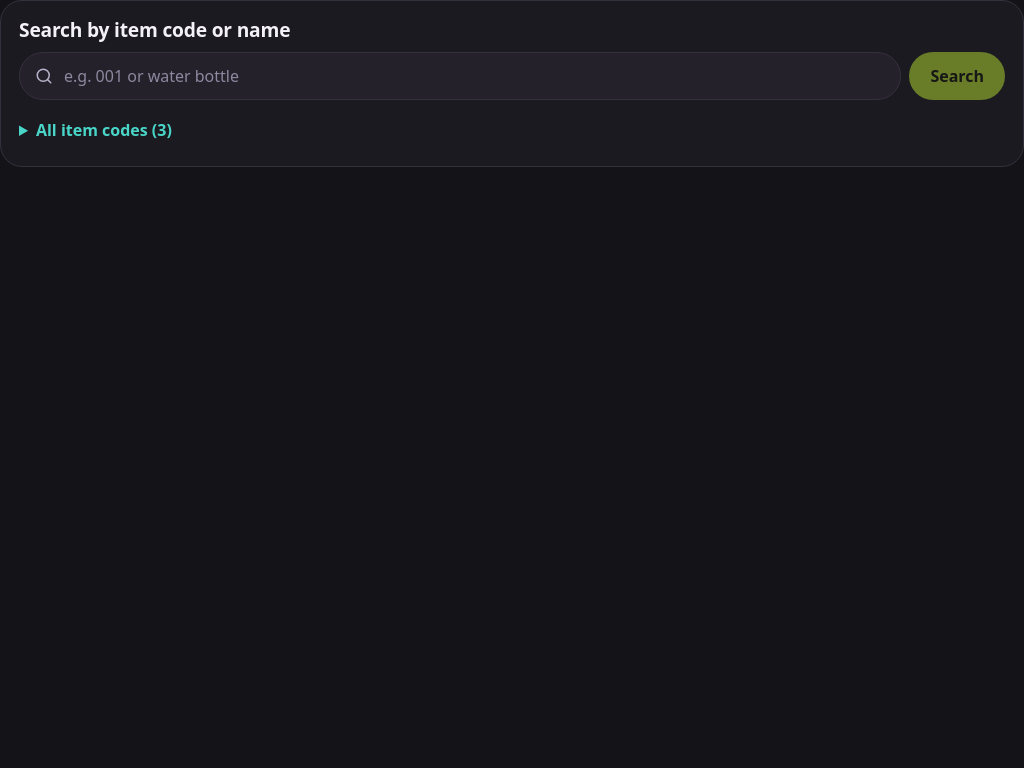
free text with no coded match falls back to a labelled AI guide
Expected: the heading "All item codes (3)" is shown, [36,119,172,141]
In the search field named "Item code or name": (460, 76) [19,52,901,100], type "toy car"
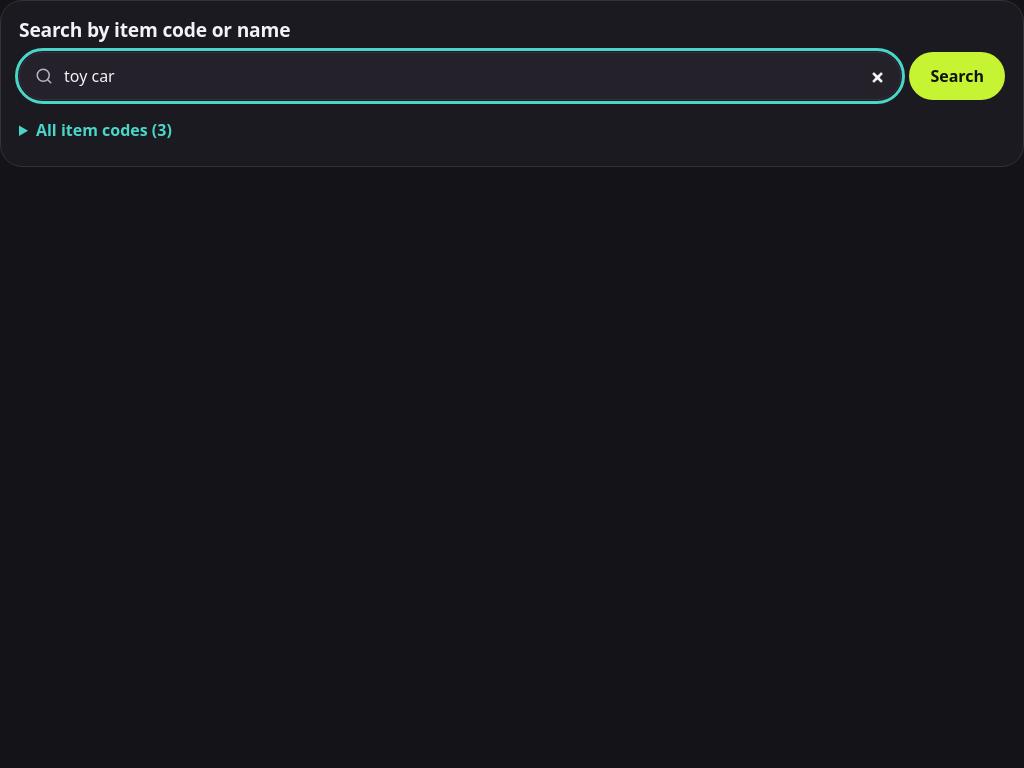
Click the button "Search": (957, 76) [909,52,1005,100]
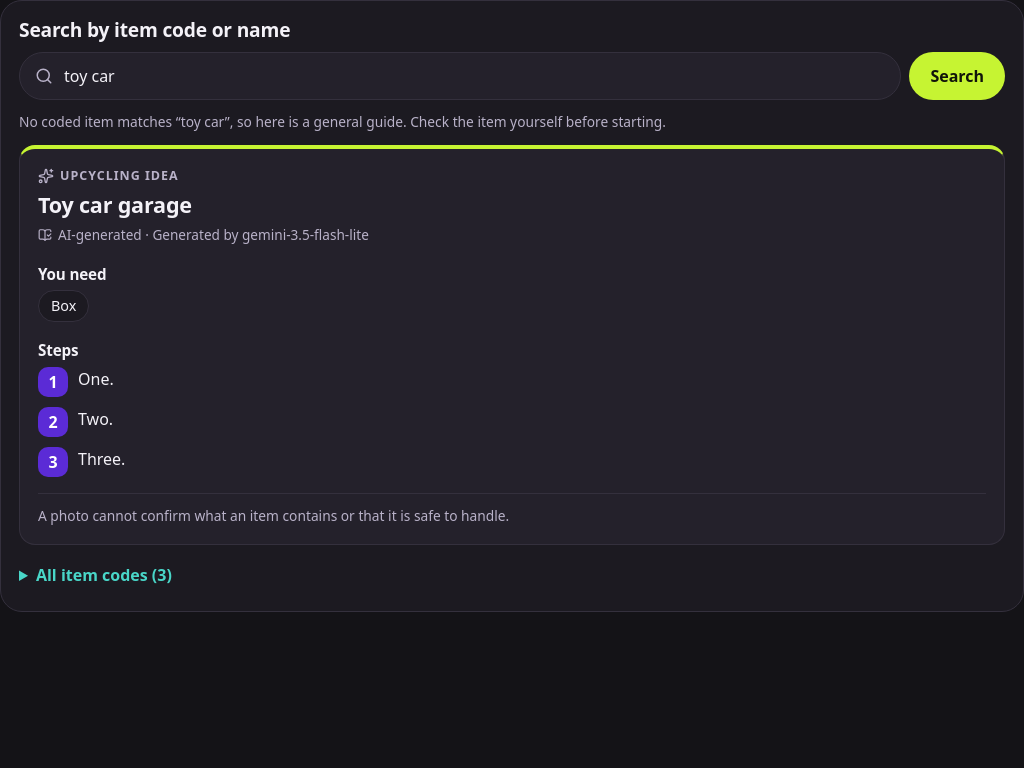
Expected: the heading "Toy car garage" is shown, [38,190,192,220]
Expected: the text "No coded item matches" is shown, [19,112,181,131]
